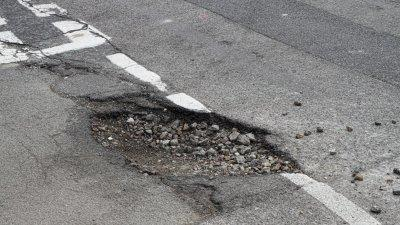Pothole: (44, 42, 374, 218)
